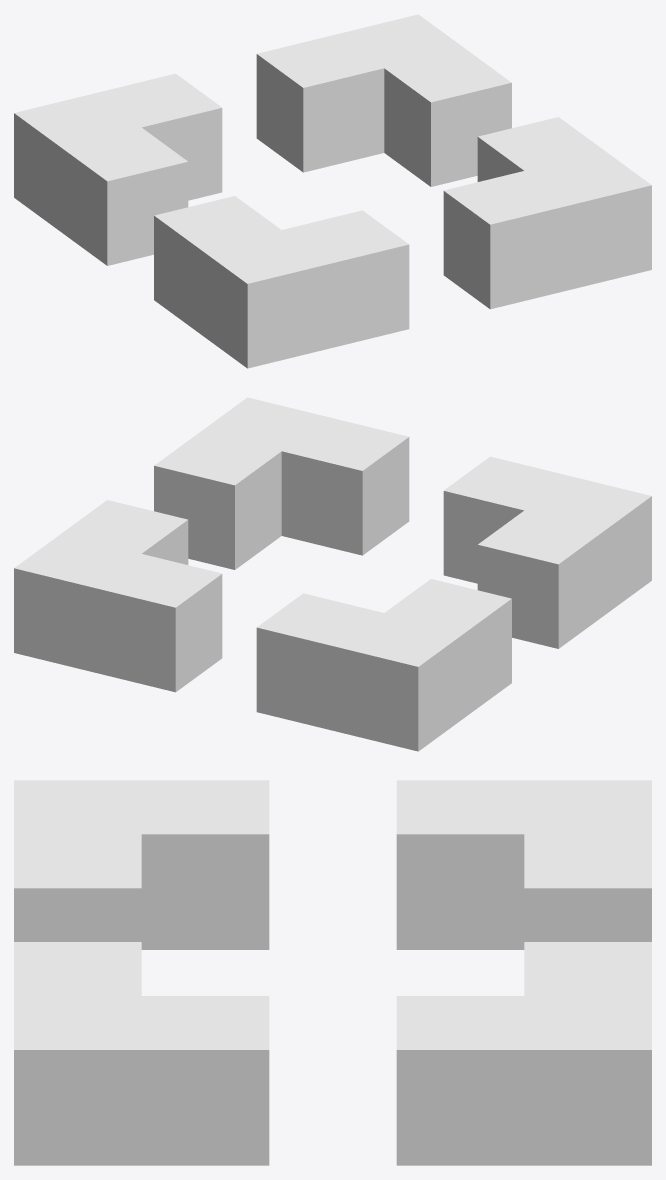
File: cursor.obj
3 views of the same model, one above another, from view 1: azimuth 30°, elevation 25°; view 2: azimuth 150°, elevation 25°; view 3: azimuth 270°, elevation 25° (orthographic). The views are drawn at different scales.
Size of the model in its own units: 0.5 by 0.1 by 0.5.
1 material, 1 textured.
